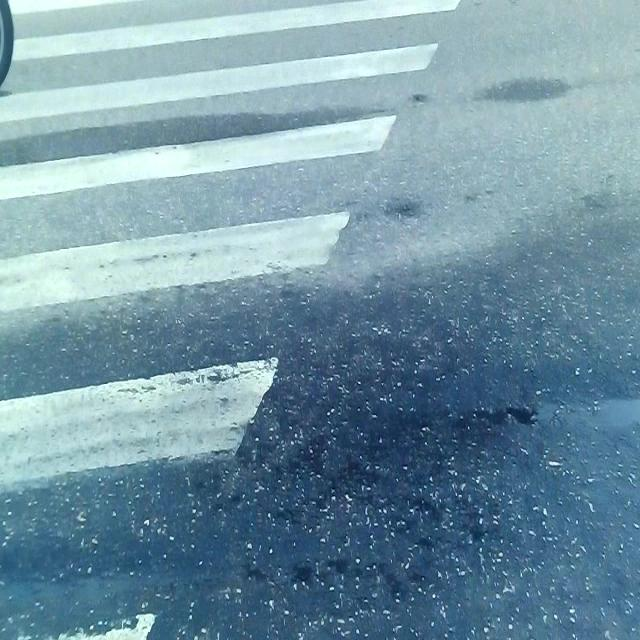crosswalk: (0, 0, 462, 640)
